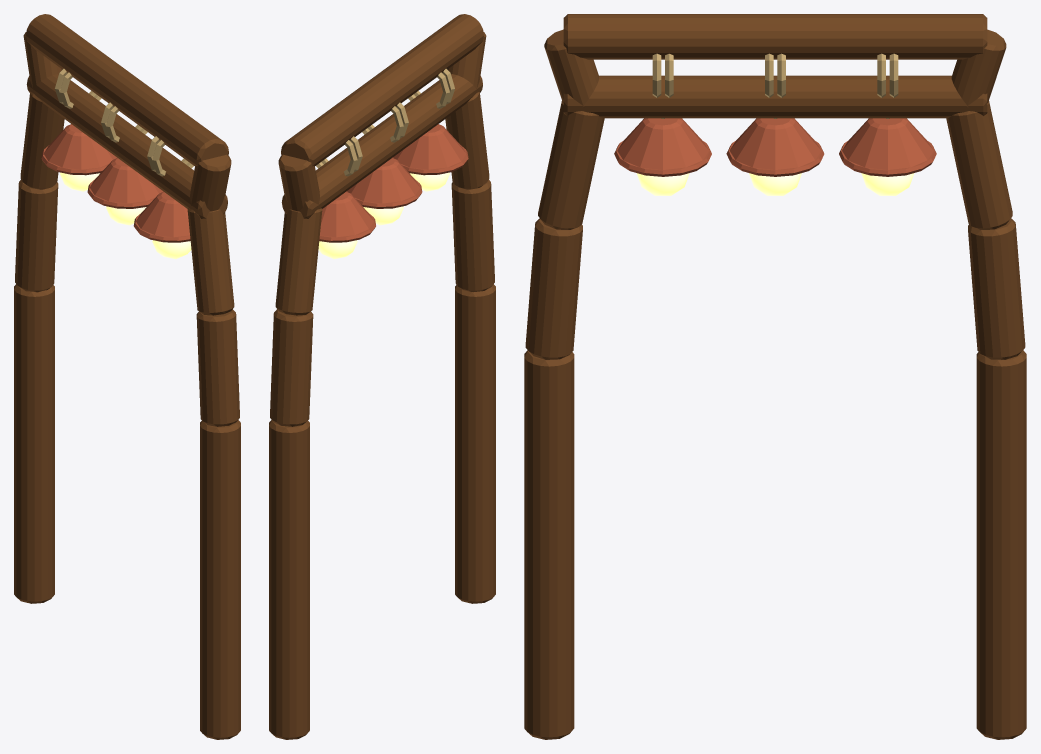
File: HazelLightArch.glb
3 views of the same model, side by side, from view 1: azimuth 30°, elevation 25°; view 2: azimuth 150°, elevation 25°; view 3: azimuth 270°, elevation 25° (orthographic). The views are drawn at different scales.
Parts seen in each view (by area): view 1: HazelLightArch_Poles, HazelLightArch_TerracottaShades, HazelLightArch_Cords, HazelLightArch_Bulbs; view 2: HazelLightArch_Poles, HazelLightArch_TerracottaShades, HazelLightArch_Cords, HazelLightArch_Bulbs; view 3: HazelLightArch_Poles, HazelLightArch_TerracottaShades, HazelLightArch_Bulbs, HazelLightArch_Cords.
Part boxes in pixels (x1=…): HazelLightArch_Poles: x1=14, y1=14, x2=240, y2=739; HazelLightArch_TerracottaShades: x1=41, y1=124, x2=190, y2=242; HazelLightArch_Cords: x1=55, y1=68, x2=193, y2=176; HazelLightArch_Bulbs: x1=60, y1=172, x2=191, y2=259; HazelLightArch_Poles: x1=269, y1=14, x2=495, y2=739; HazelLightArch_TerracottaShades: x1=319, y1=124, x2=468, y2=242; HazelLightArch_Cords: x1=316, y1=68, x2=454, y2=176; HazelLightArch_Bulbs: x1=318, y1=172, x2=449, y2=259; HazelLightArch_Poles: x1=524, y1=14, x2=1026, y2=739; HazelLightArch_TerracottaShades: x1=614, y1=118, x2=936, y2=176; HazelLightArch_Bulbs: x1=636, y1=173, x2=914, y2=195; HazelLightArch_Cords: x1=652, y1=53, x2=898, y2=118.
Size of the model in its own units: 0.192 by 1.54 by 0.9837.
